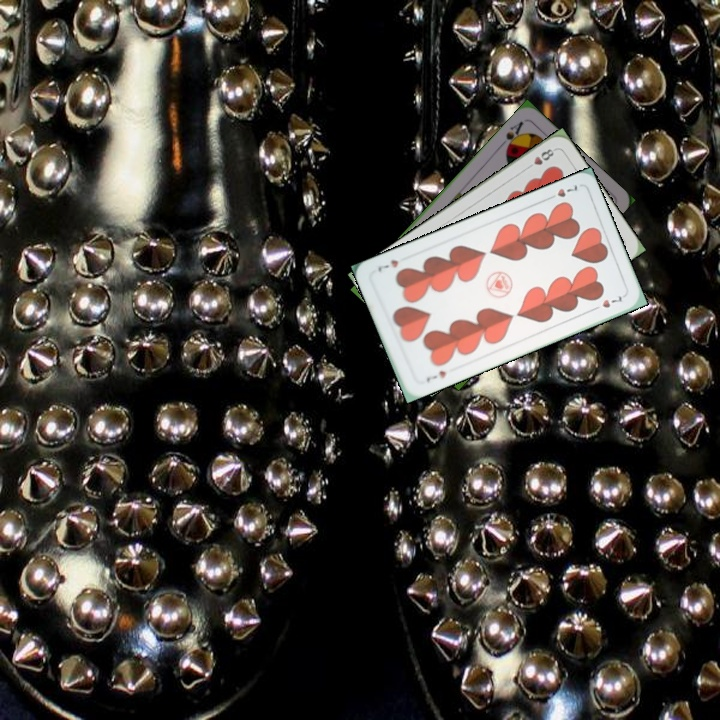H7: (543, 181, 580, 203), (422, 366, 448, 385)
H8: (522, 144, 558, 172)
SA: (502, 117, 526, 154)
